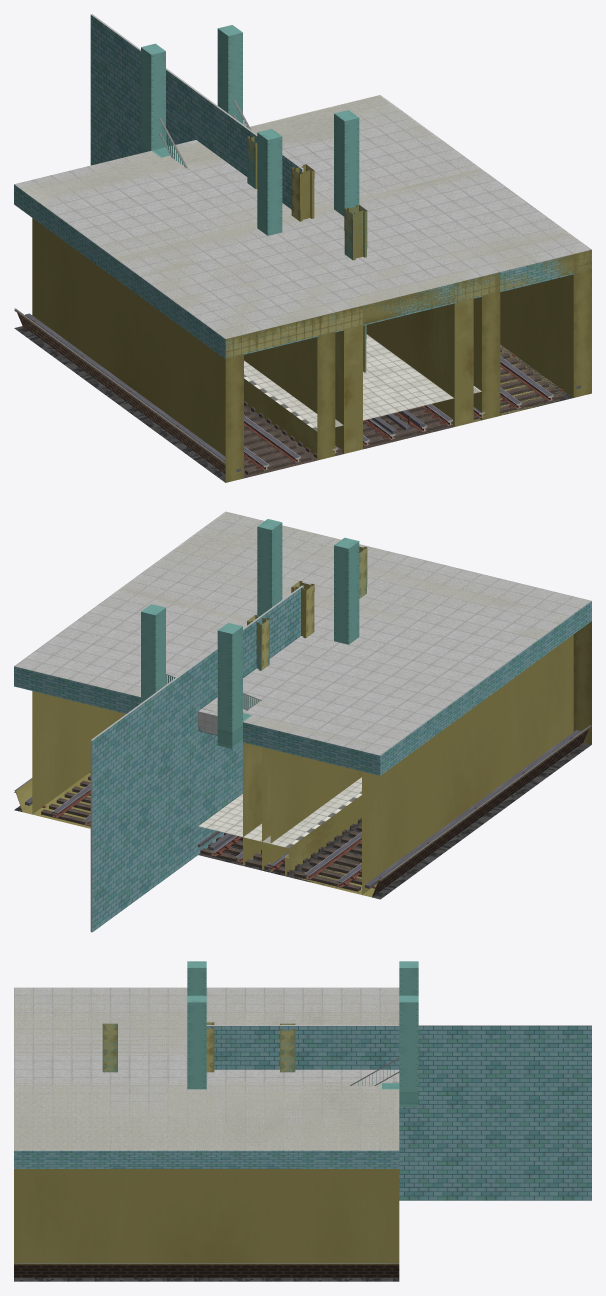
The model's file is ModularEnvironmentModules.fbx.
3 renders of one model, top to bottom at view 1: azimuth 30°, elevation 25°; view 2: azimuth 150°, elevation 25°; view 3: azimuth 270°, elevation 25°, orthographic. The views are drawn at different scales.
Parts seen in each view (by area): view 1: CeilingLarge, TunnelCentered20x20, TopFlat20x20, DoubleTunnel20x20, TunnelCenteredSmall, WallLong, StairsThin.004, TopRibbed20x20, DoubleRail20x20, Ceiling Small, PlatformCenter, PlatformSingle (+8 smaller); view 2: CeilingLarge, TunnelCentered20x20, WallLong, TopFlat20x20, StairsThin.004, TopRibbed20x20, DoubleTunnel20x20, TunnelCenteredSmall, DoubleRail20x20, Ceiling Small, PlatformSingle, Flat floor (+7 smaller); view 3: TopFlat20x20, WallLong, TunnelCentered20x20, CeilingLarge, TopRibbed20x20, Ceiling Small, StairsThin.004, Curved Floor, Flat floor, WallShort, Column20x20, Column20x20.003 (+2 smaller).
Part boxes in pixels (box(x1,y1,x2,y2)): CeilingLarge: box(14, 95, 591, 358); TunnelCentered20x20: box(32, 218, 591, 482); TopFlat20x20: box(16, 95, 581, 338); DoubleTunnel20x20: box(14, 250, 591, 463); TunnelCenteredSmall: box(244, 272, 500, 460); WallLong: box(90, 14, 303, 208); StairsThin.004: box(141, 25, 359, 235); TopRibbed20x20: box(19, 95, 569, 338); DoubleRail20x20: box(25, 313, 580, 474); Ceiling Small: box(67, 137, 448, 320); PlatformCenter: box(363, 334, 453, 420); PlatformSingle: box(244, 360, 481, 453); CeilingLarge: box(14, 512, 591, 775); TunnelCentered20x20: box(32, 621, 591, 894); WallLong: box(90, 585, 303, 932); TopFlat20x20: box(69, 511, 590, 734); StairsThin.004: box(141, 519, 359, 748); TopRibbed20x20: box(36, 512, 589, 747); DoubleTunnel20x20: box(14, 725, 591, 897); TunnelCenteredSmall: box(124, 713, 361, 872); DoubleRail20x20: box(25, 730, 580, 891); Ceiling Small: box(70, 550, 538, 736); PlatformSingle: box(243, 777, 361, 875); Flat floor: box(14, 742, 591, 899); TopFlat20x20: box(14, 987, 399, 1150); WallLong: box(206, 1025, 591, 1200); TunnelCentered20x20: box(14, 1169, 399, 1263); CeilingLarge: box(14, 987, 399, 1168); TopRibbed20x20: box(14, 987, 399, 1150); Ceiling Small: box(110, 987, 302, 1168); StairsThin.004: box(187, 961, 418, 1106); Curved Floor: box(14, 1264, 399, 1277); Flat floor: box(14, 1277, 399, 1281); WallShort: box(207, 1026, 360, 1069); Column20x20: box(102, 1023, 295, 1072); Column20x20.003: box(102, 1024, 295, 1072).
Size of the model in its own units: 2000 by 1259 by 3000.
